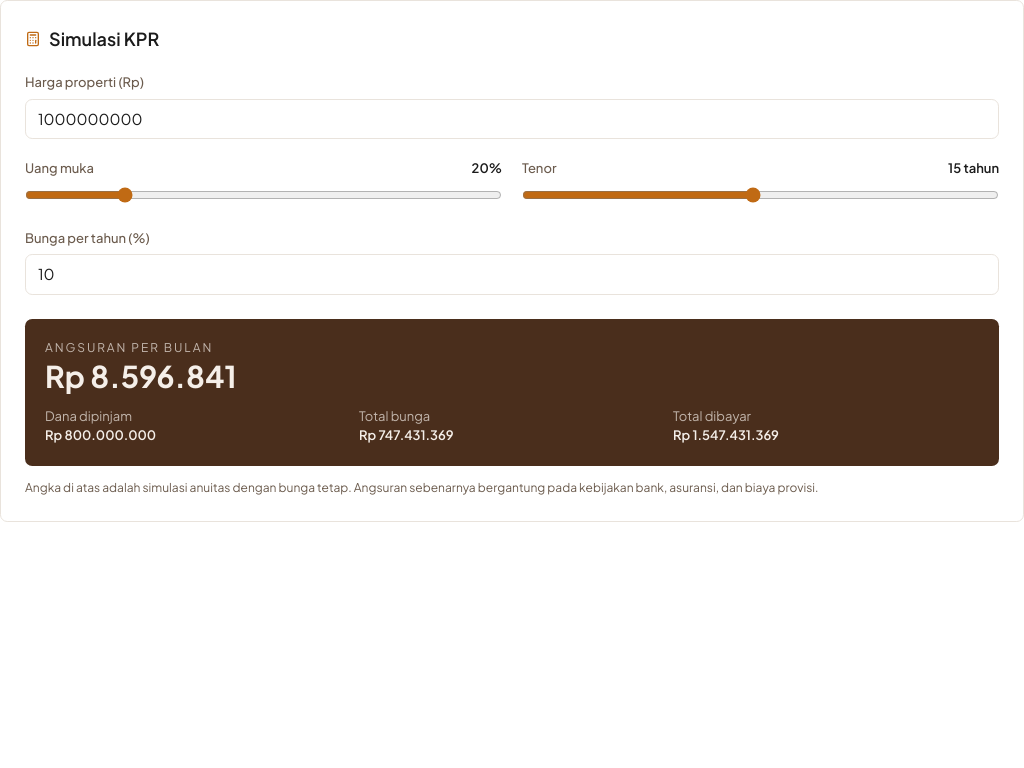
Scenario: MortgageCalculator › recalculates when the tenor changes
Set the slider labelled "Tenor 15 tahun" to "10" at (673,194), box [522,186,999,202]
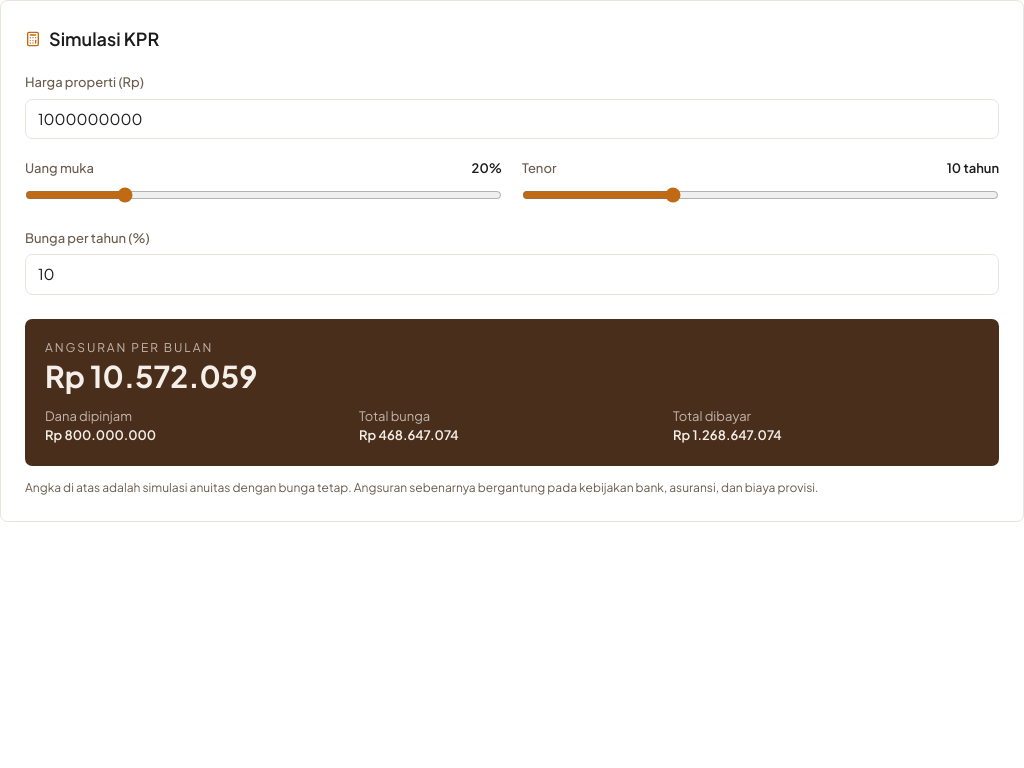
Now the text "Rp 8.596.841" is gone
